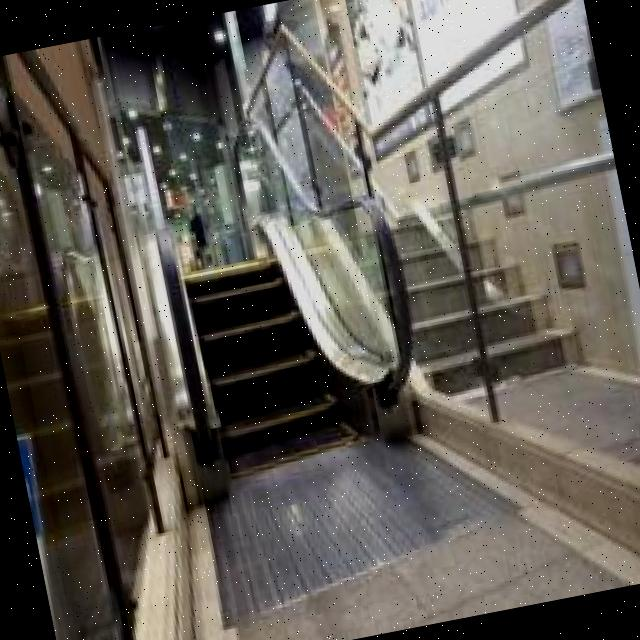stairs: (380, 178, 582, 404), (180, 244, 362, 478)
